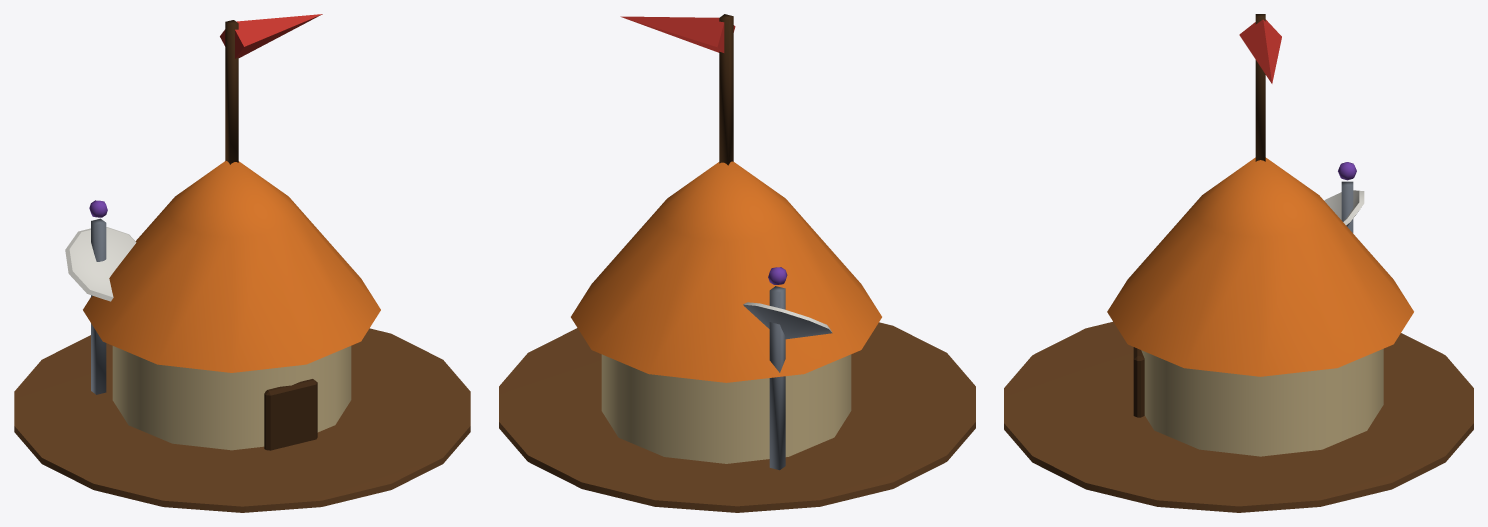
3 views of the same model, side by side, from view 1: azimuth 30°, elevation 25°; view 2: azimuth 150°, elevation 25°; view 3: azimuth 270°, elevation 25° (orthographic). The views are drawn at different scales.
Parts seen in each view (by area): view 1: vila_0_base; view 2: vila_0_base; view 3: vila_0_base.
Part boxes in pixels (bbox=[...]): vila_0_base: bbox=[14, 14, 470, 512]; vila_0_base: bbox=[499, 14, 975, 512]; vila_0_base: bbox=[1004, 14, 1473, 512].
Size of the model in its own units: 1.32 by 1.21 by 1.3.
